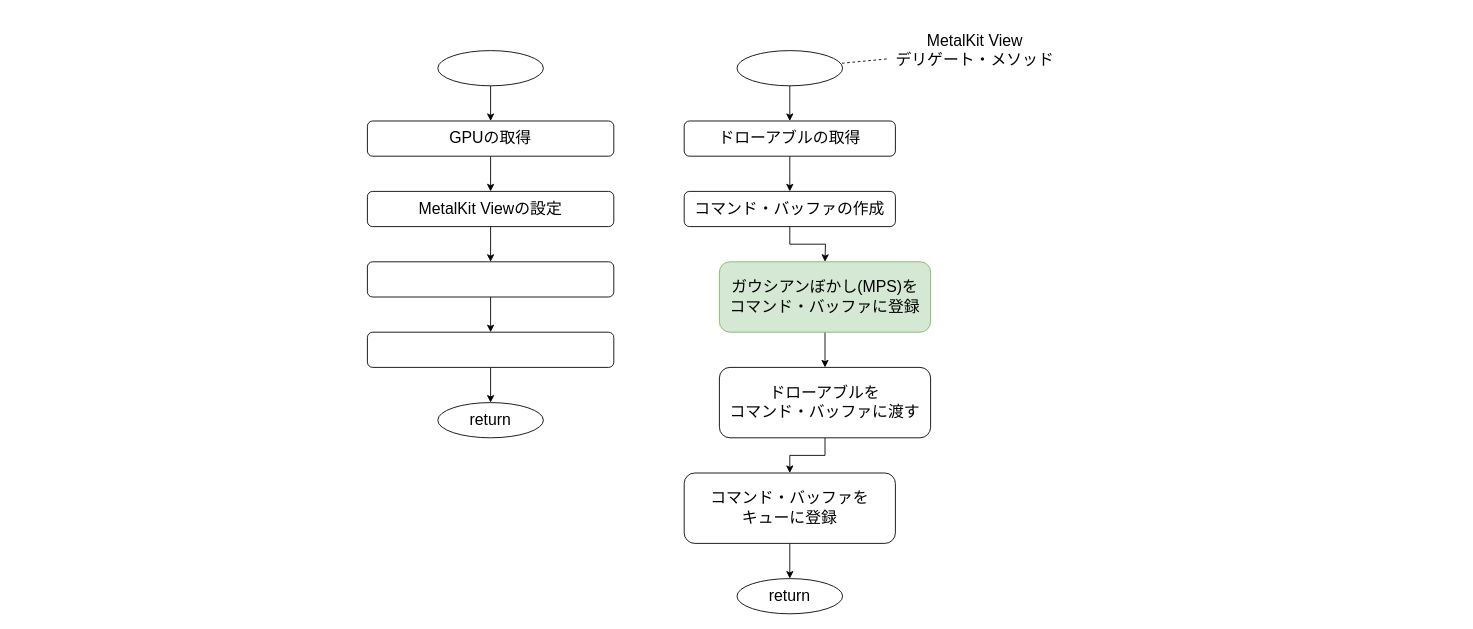
This 1473x629 diagram has some shape labels left out. The centre of each missing label's shape, as x and y in pixels:
"draw()" belongs at (x=789, y=68).
"start" belongs at (x=490, y=68).
"コマンド・キューの作成" belongs at (x=490, y=349).
"画像（テクスチャ）のロード" belongs at (x=490, y=279).
